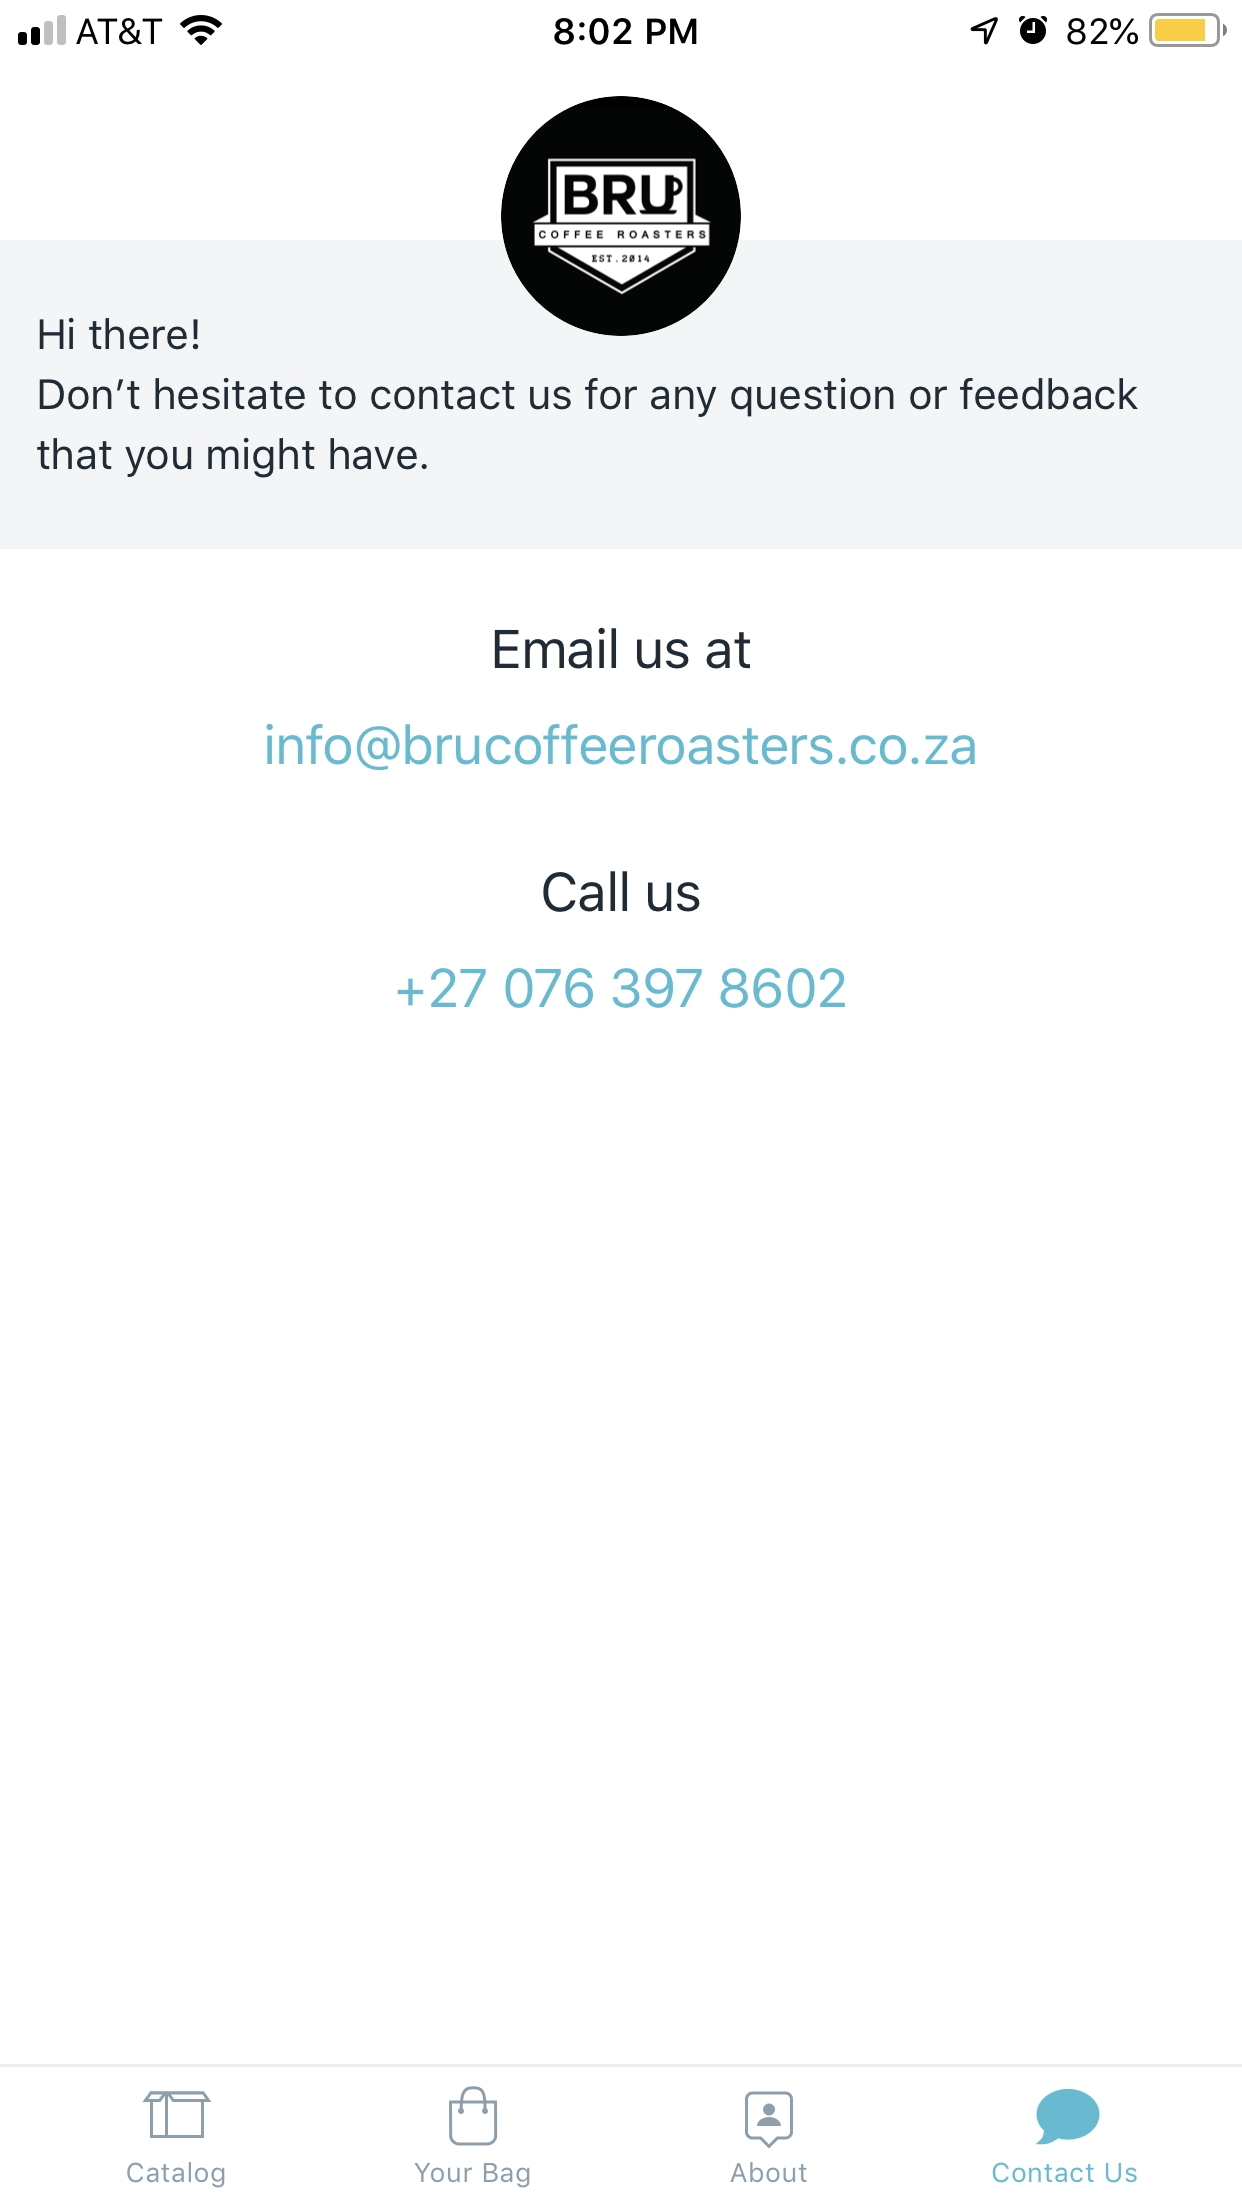Icon: (1034, 2088, 1099, 2144), (449, 2085, 497, 2146), (745, 2091, 795, 2149)
Image: (500, 96, 743, 338), (143, 2091, 212, 2138)
Text: (36, 317, 1139, 478), (265, 723, 977, 770), (397, 968, 846, 1008), (494, 626, 751, 670), (543, 870, 701, 914), (993, 2163, 1137, 2184), (416, 2163, 531, 2188), (127, 2161, 226, 2188), (731, 2161, 808, 2184)
UpperTaskBar: (2, 2, 1242, 49)
